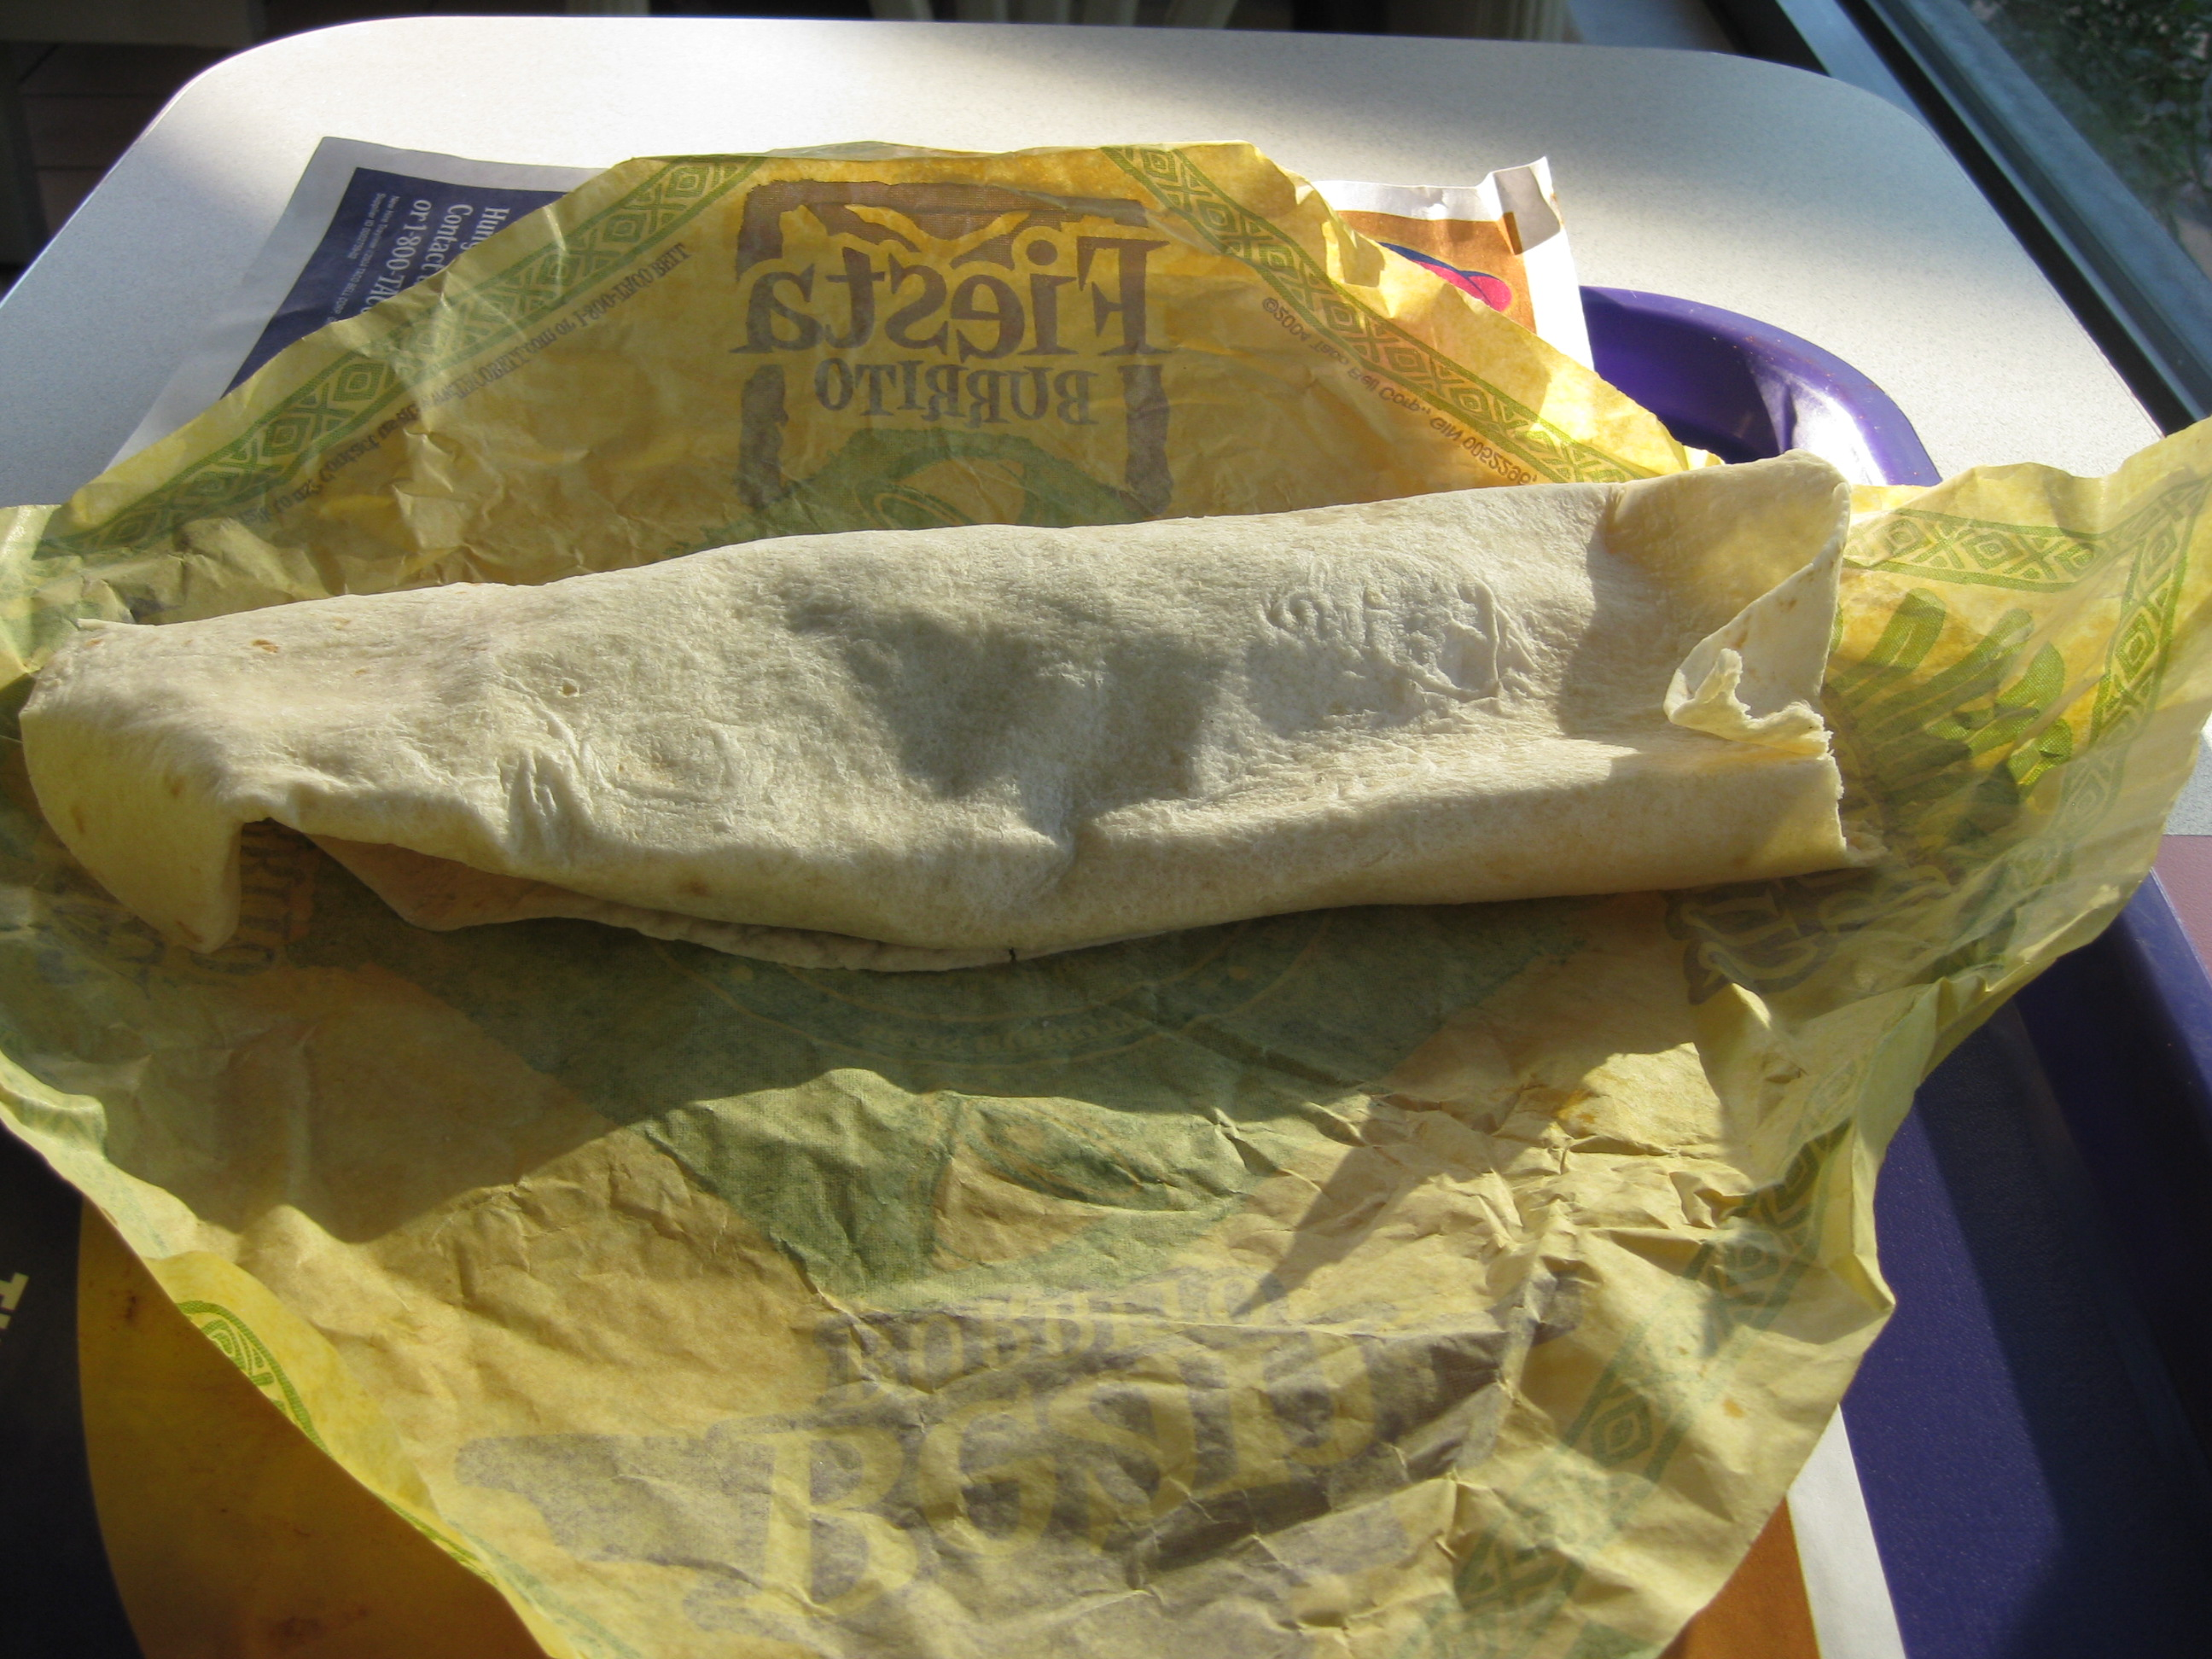burrito: (20, 528, 1930, 1027)
